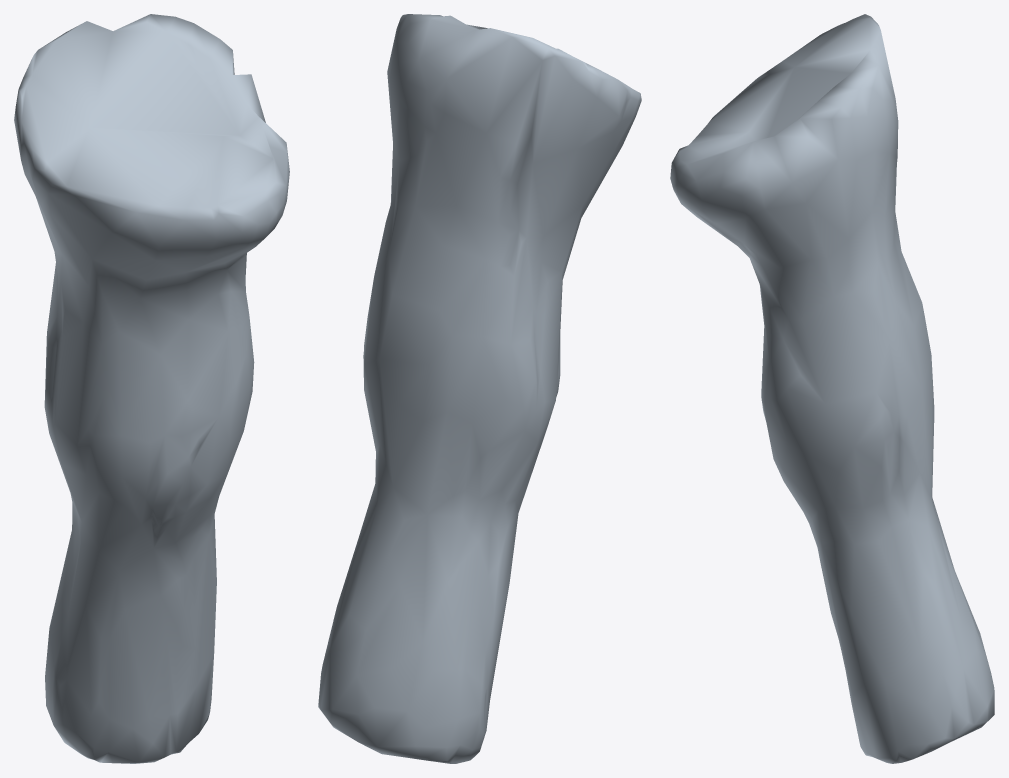
File: lateral-thyrohyoid-ligament-r.glb
3 renders of one model, left to right at view 1: azimuth 30°, elevation 25°; view 2: azimuth 150°, elevation 25°; view 3: azimuth 270°, elevation 25°, orthographic. The views are drawn at different scales.
Visible parts, largest first — view 1: Lateral thyrohyoid ligament.r; view 2: Lateral thyrohyoid ligament.r; view 3: Lateral thyrohyoid ligament.r.
Part boxes in pixels (x1,y1,x2,y2): Lateral thyrohyoid ligament.r: (14, 14, 289, 763); Lateral thyrohyoid ligament.r: (318, 14, 641, 763); Lateral thyrohyoid ligament.r: (670, 14, 994, 763).
Bounding box in the file's own units: 0.00362 × 0.0106 × 0.00451.
